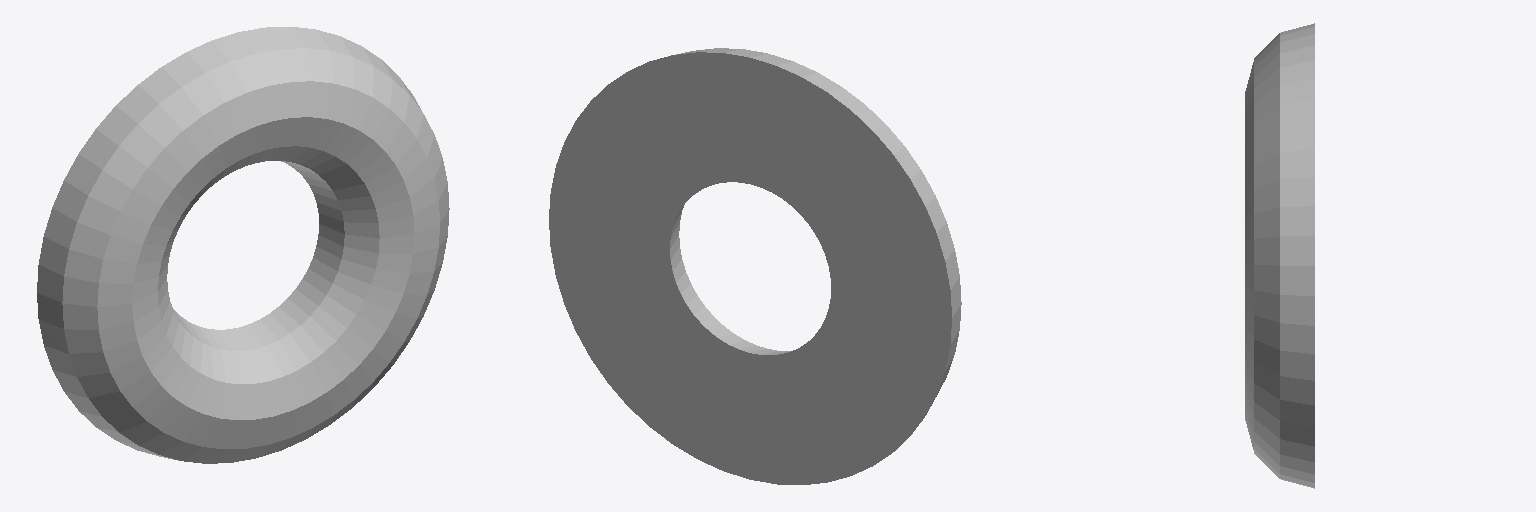
The model's file is half-torus.obj.
3 views of the same model, side by side, from view 1: azimuth 30°, elevation 25°; view 2: azimuth 150°, elevation 25°; view 3: azimuth 270°, elevation 25° (orthographic).
Visible parts, largest first — view 1: Torus.005, Torus.006, Torus.004, Torus.007, Torus.003, Torus.002; view 2: Torus.001, Torus.007, Torus.002; view 3: Torus.007, Torus.006, Torus.005.
Part boxes in pixels (bbox=[...]): Torus.005: bbox=[97, 81, 439, 448]; Torus.006: bbox=[62, 48, 449, 463]; Torus.004: bbox=[132, 117, 414, 419]; Torus.007: bbox=[37, 27, 421, 460]; Torus.003: bbox=[158, 146, 379, 383]; Torus.002: bbox=[173, 161, 344, 350]; Torus.001: bbox=[549, 52, 951, 484]; Torus.007: bbox=[676, 48, 961, 414]; Torus.002: bbox=[670, 206, 790, 354]; Torus.007: bbox=[1280, 23, 1314, 488]; Torus.006: bbox=[1254, 33, 1279, 478]; Torus.005: bbox=[1245, 62, 1253, 449].
Bounding box in the file's own units: 15.66 × 15.66 × 2.35.